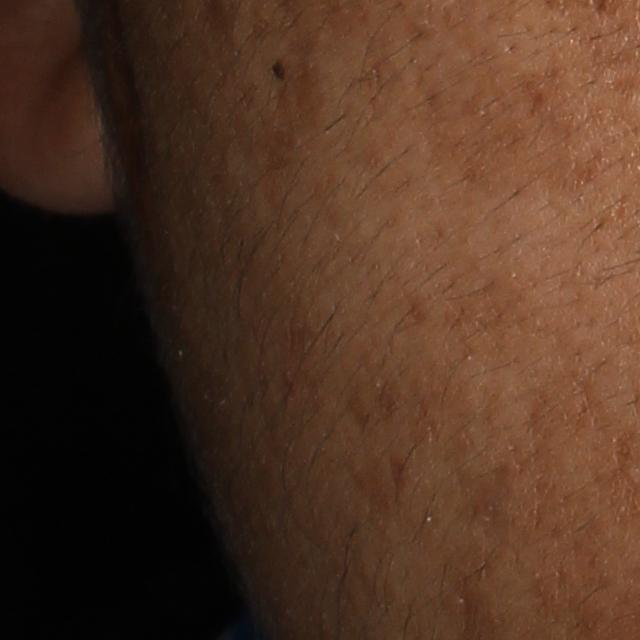nevus: (267, 54, 288, 89)
